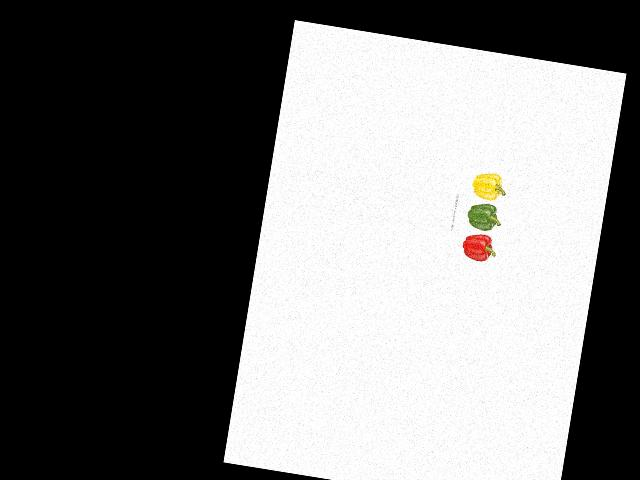bell_pepper: (467, 168, 508, 204)
